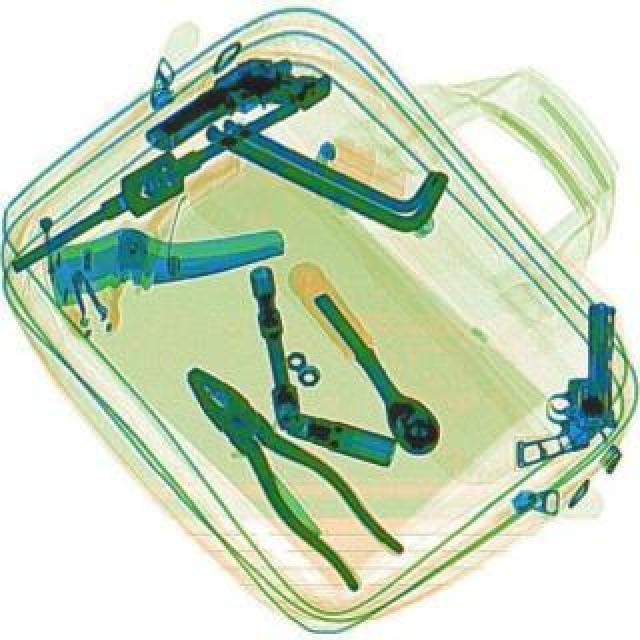gun: (136, 28, 338, 184), (512, 302, 618, 466)
wrench: (160, 346, 408, 594)
